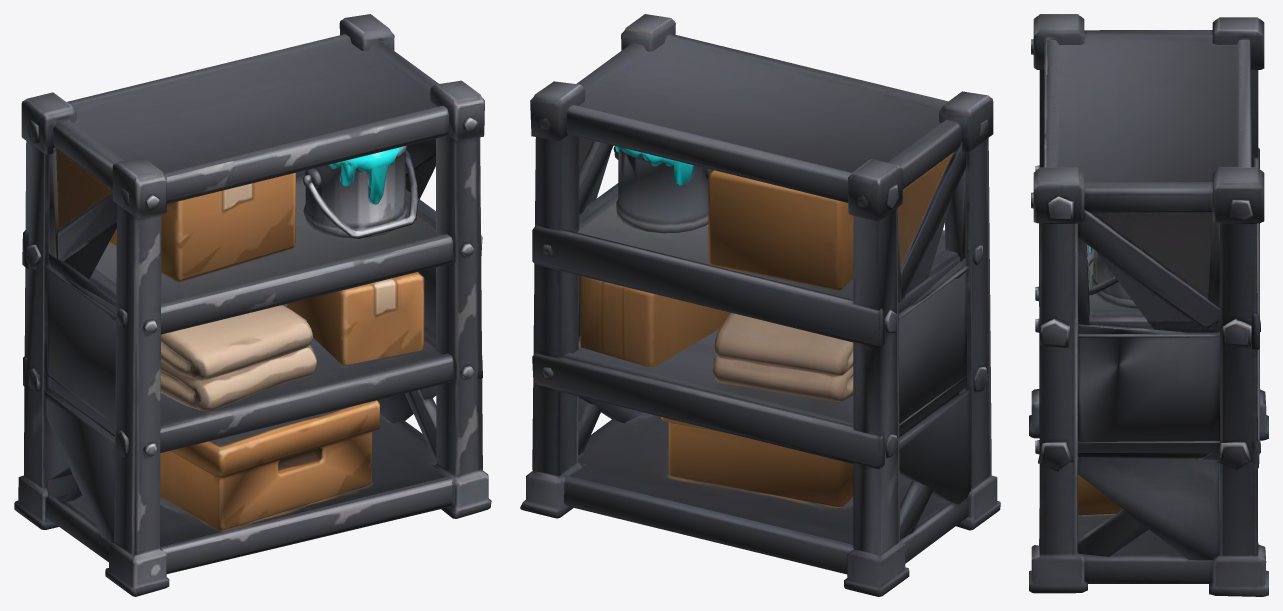
The model's file is storage-shelf.glb.
The picture shows the model from 3 angles, left to right: view 1: azimuth 30°, elevation 25°; view 2: azimuth 150°, elevation 25°; view 3: azimuth 270°, elevation 25°; orthographic projection.
Parts seen in each view (by area): view 1: tripo_node_b43b2176-f5c3-4aa4-8f23-3e7f6acd2847; view 2: tripo_node_b43b2176-f5c3-4aa4-8f23-3e7f6acd2847; view 3: tripo_node_b43b2176-f5c3-4aa4-8f23-3e7f6acd2847.
Part boxes in pixels (left/top/right/bottom): tripo_node_b43b2176-f5c3-4aa4-8f23-3e7f6acd2847: left=14, top=14, right=491, bottom=596; tripo_node_b43b2176-f5c3-4aa4-8f23-3e7f6acd2847: left=520, top=14, right=1000, bottom=596; tripo_node_b43b2176-f5c3-4aa4-8f23-3e7f6acd2847: left=1029, top=14, right=1268, bottom=596.
Bounding box in the file's own units: 0.9102 × 0.998 × 0.5254.
Materials: 1 (1 with a texture image).
